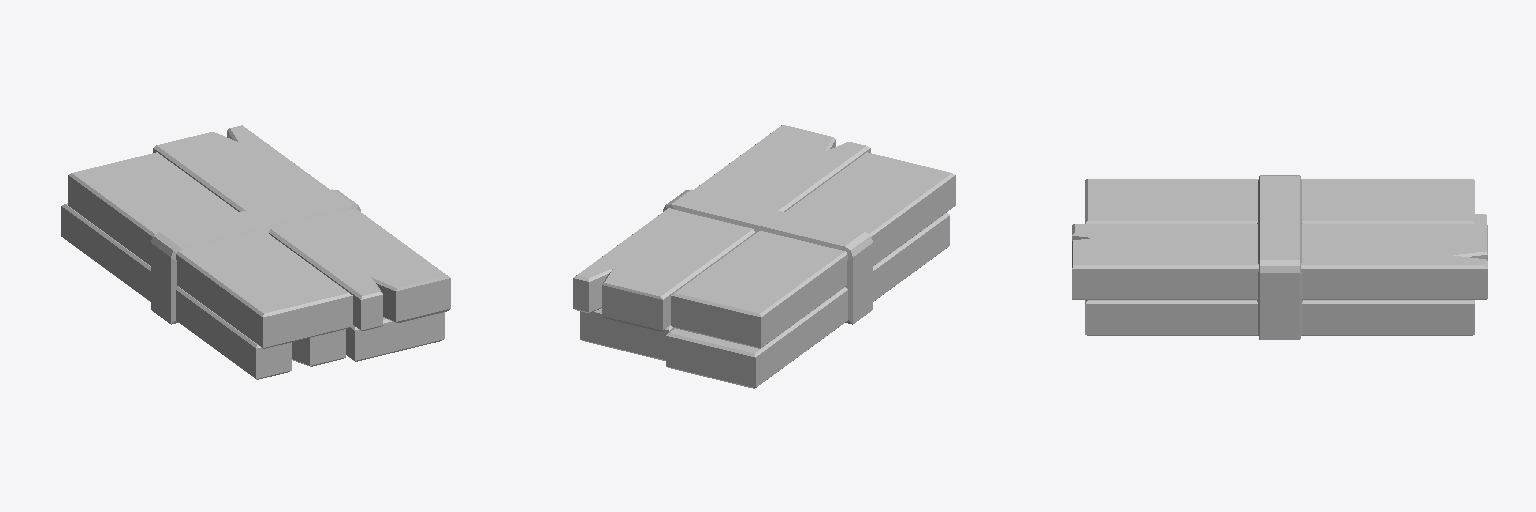
Rendered from Wood_Planks_Stack_Small.obj.
The picture shows the model from 3 angles: view 1: azimuth 30°, elevation 25°; view 2: azimuth 150°, elevation 25°; view 3: azimuth 270°, elevation 25°; orthographic projection.
Parts seen in each view (by area): view 1: Wood_Planks_Stack_Small; view 2: Wood_Planks_Stack_Small; view 3: Wood_Planks_Stack_Small.
Part boxes in pixels (left/top/right/bottom): Wood_Planks_Stack_Small: left=61, top=125, right=450, bottom=379; Wood_Planks_Stack_Small: left=573, top=125, right=955, bottom=388; Wood_Planks_Stack_Small: left=1072, top=175, right=1487, bottom=339.
Bounding box in the file's own units: 0.8461 × 0.3232 × 1.6.